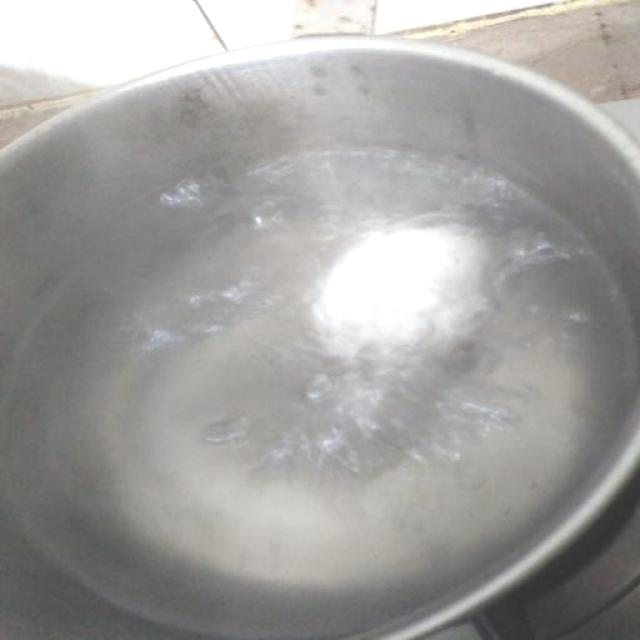telur: (307, 224, 482, 361)
